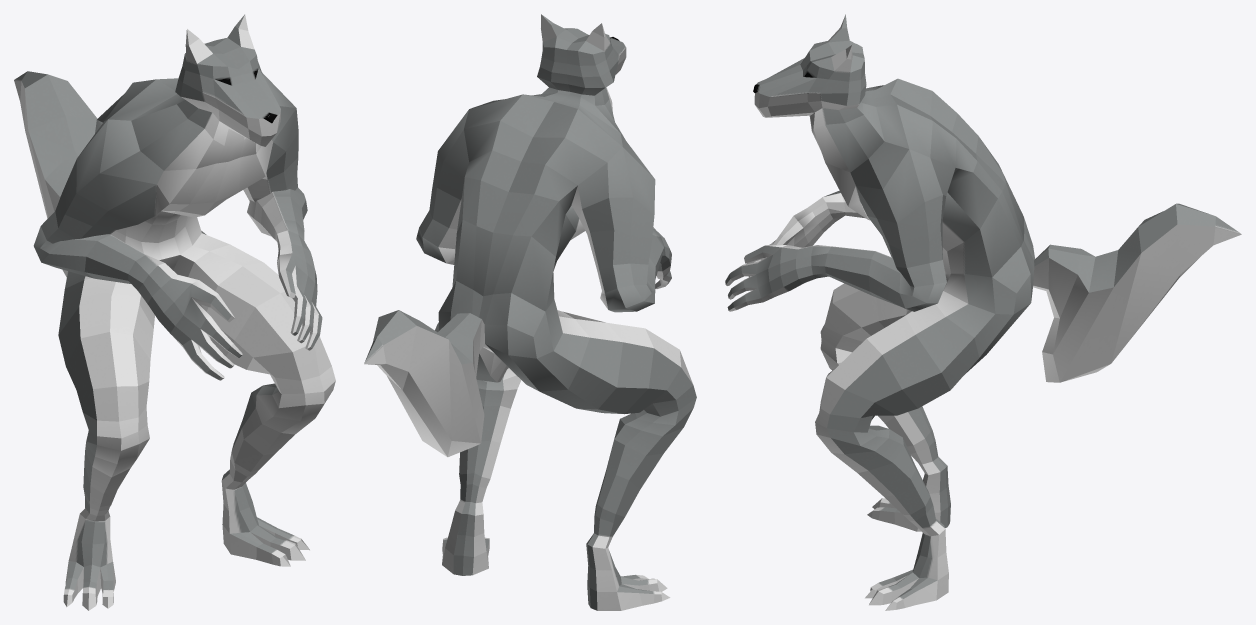
The model's file is WolfIdle_(5).obj.
3 views of the same model, side by side, from view 1: azimuth 30°, elevation 25°; view 2: azimuth 150°, elevation 25°; view 3: azimuth 270°, elevation 25° (orthographic). The views are drawn at different scales.
Visible parts, largest first — view 1: Box001; view 2: Box001; view 3: Box001.
Part boxes in pixels (left/top/right/bottom): Box001: left=14, top=14, right=335, bottom=610; Box001: left=364, top=14, right=696, bottom=610; Box001: left=725, top=14, right=1241, bottom=610.
Size of the model in its own units: 61.12 by 131 by 115.
